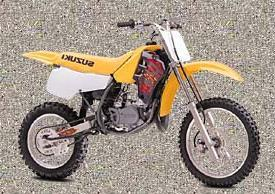motorcycle: (9, 14, 264, 191)
